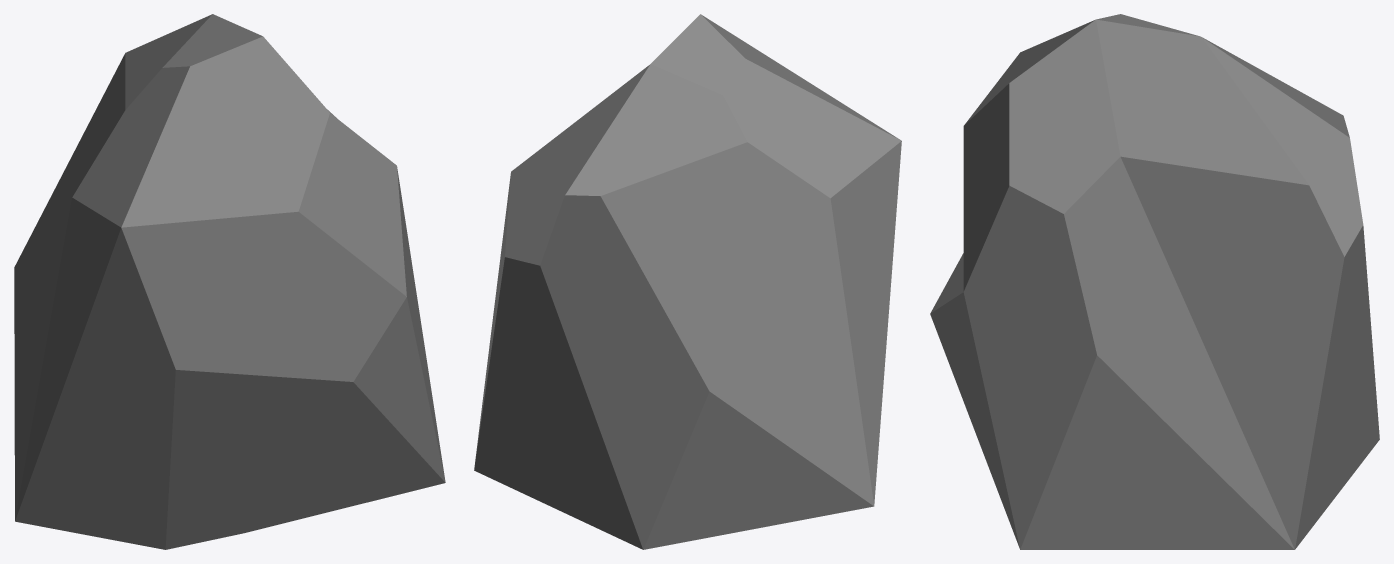
File: stone02.fbx
3 renders of one model, left to right at view 1: azimuth 30°, elevation 25°; view 2: azimuth 150°, elevation 25°; view 3: azimuth 270°, elevation 25°, orthographic. The views are drawn at different scales.
Visible parts, largest first — view 1: stone02_LOD0; view 2: stone02_LOD0; view 3: stone02_LOD0.
Boxes of the visible parts, x1=… form: stone02_LOD0: x1=14, y1=14, x2=445, y2=549; stone02_LOD0: x1=474, y1=14, x2=901, y2=549; stone02_LOD0: x1=930, y1=14, x2=1379, y2=549.
Size of what is drawn, in the model's own units: 80.9 by 101 by 86.06.
